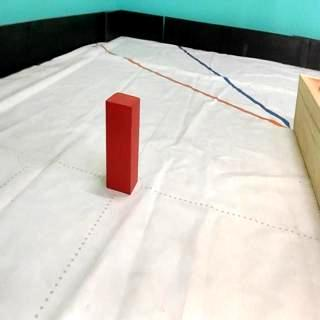redbox: (105, 91, 139, 195)
